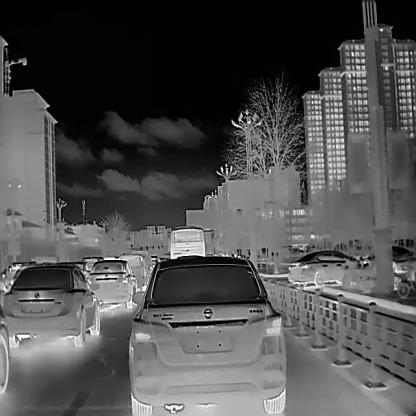bus: (166, 222, 207, 261)
car: (124, 252, 286, 415), (0, 262, 101, 347), (287, 248, 369, 284), (90, 259, 136, 309), (360, 241, 414, 264), (118, 253, 146, 291)
